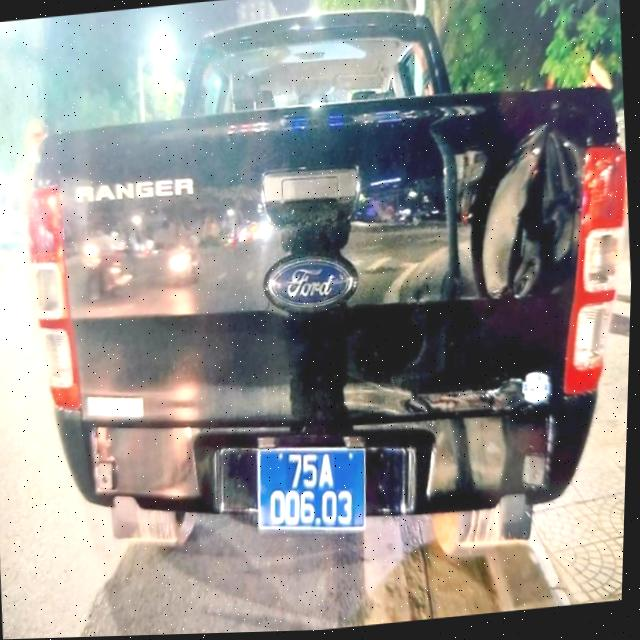car: (0, 0, 640, 606)
plate: (245, 432, 379, 544)
